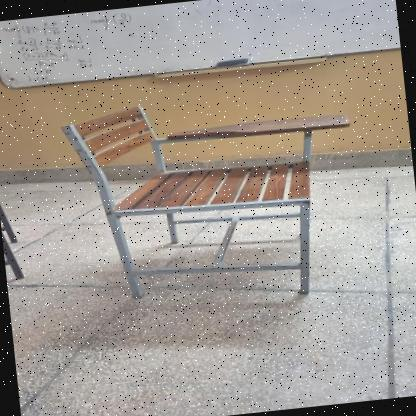chair: (48, 74, 368, 327)
